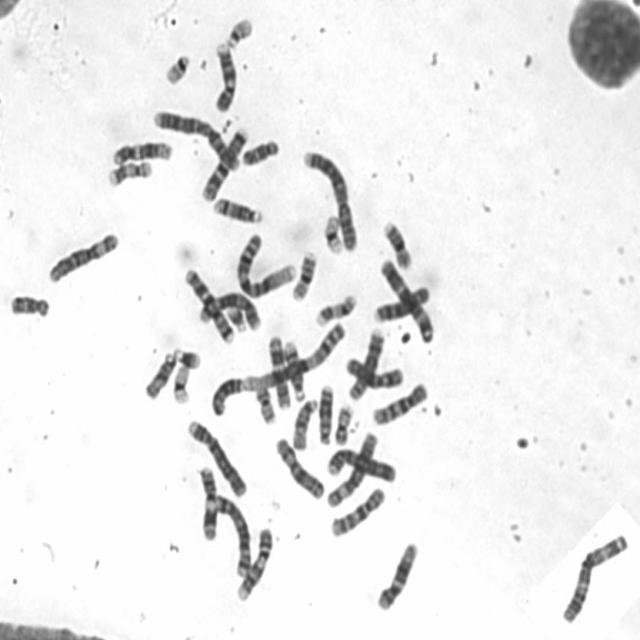A1: (242, 319, 348, 396), (233, 230, 297, 299)
A2: (300, 145, 359, 253), (151, 106, 243, 172)
A3: (558, 530, 631, 624), (378, 255, 434, 342)
B4: (184, 415, 248, 499), (324, 445, 396, 484)
B5: (210, 492, 252, 579), (196, 290, 263, 332)
C10: (327, 482, 387, 539), (369, 379, 430, 427)
C11: (266, 331, 292, 411), (196, 462, 219, 542)
C12: (374, 538, 419, 612), (110, 138, 174, 166)
C6: (325, 429, 379, 510), (45, 228, 121, 284)
C7: (182, 264, 236, 346), (199, 124, 250, 202)
C8: (345, 325, 387, 403), (370, 281, 431, 324)
C9: (233, 525, 274, 601), (210, 39, 238, 113)
D13: (316, 382, 334, 446)
D14: (210, 193, 265, 226), (281, 337, 307, 403)
D15: (142, 347, 178, 401), (289, 395, 320, 451)
E16: (380, 217, 414, 270), (288, 247, 318, 302)
E17: (312, 290, 358, 328), (104, 157, 154, 189)
E18: (239, 136, 280, 168), (8, 290, 51, 320)
F19: (320, 211, 344, 257), (170, 361, 192, 406)
F20: (251, 382, 277, 425), (332, 403, 356, 446)
G21: (210, 378, 243, 418), (172, 344, 202, 370), (225, 304, 248, 333)
G22: (160, 50, 192, 86), (223, 15, 254, 50)
X: (273, 434, 326, 500), (342, 354, 406, 392)
